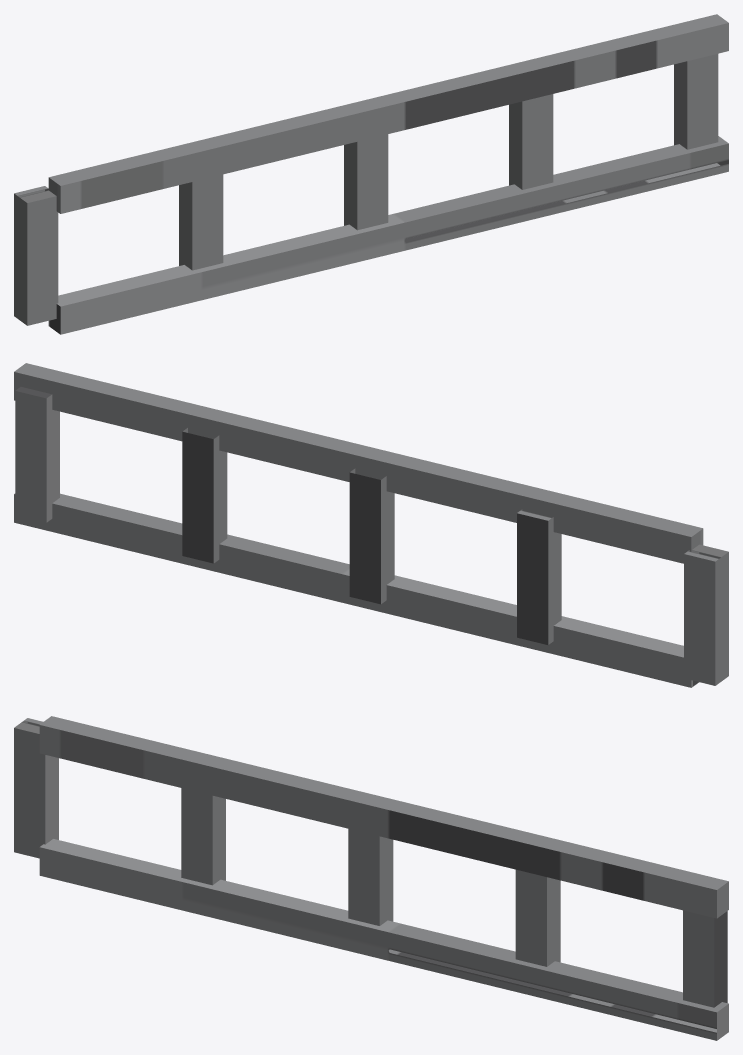
The picture shows the model from 3 angles, top to bottom: view 1: azimuth 30°, elevation 25°; view 2: azimuth 150°, elevation 25°; view 3: azimuth 330°, elevation 25°; orthographic projection.
Size of the model in its own units: 1.05 by 0.2141 by 0.0454.
